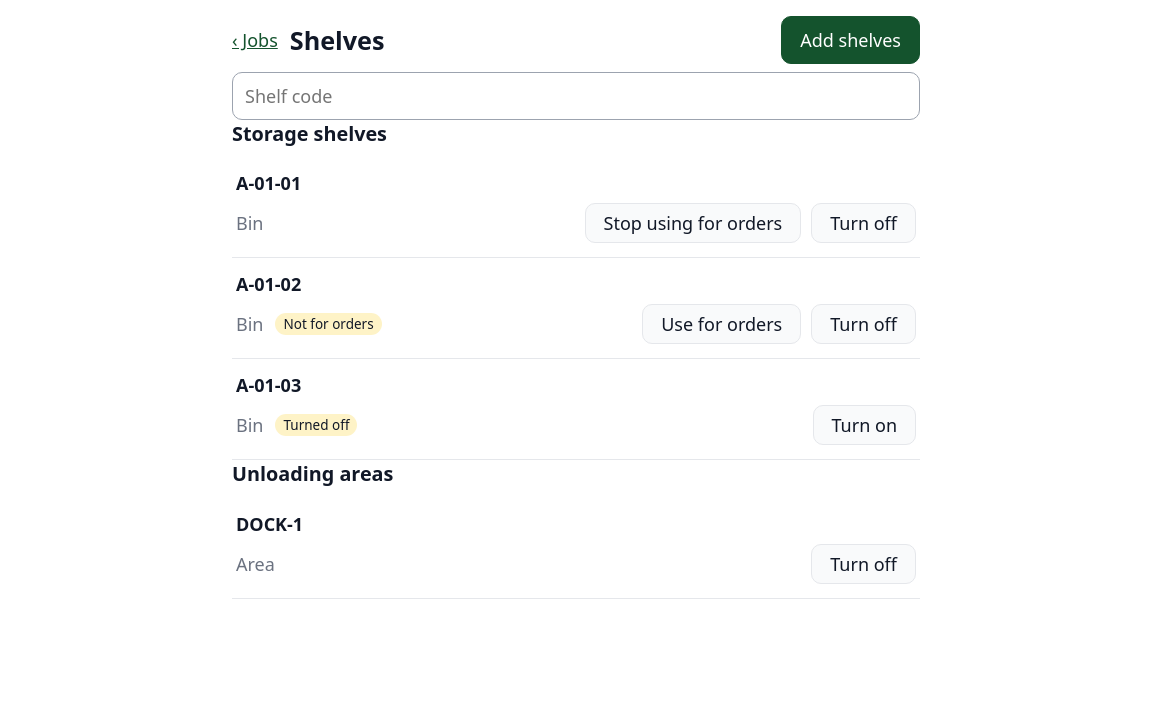
Test: shelves screen › adds a numbered run of shelves one at a time and reports any that already exist
The image size is (1152, 720).
Expected: the text "A-01-01" is shown, [236,171,301,195]
Step 1. Click the button "Add shelves" → (851, 40), box [781,16,920,64]
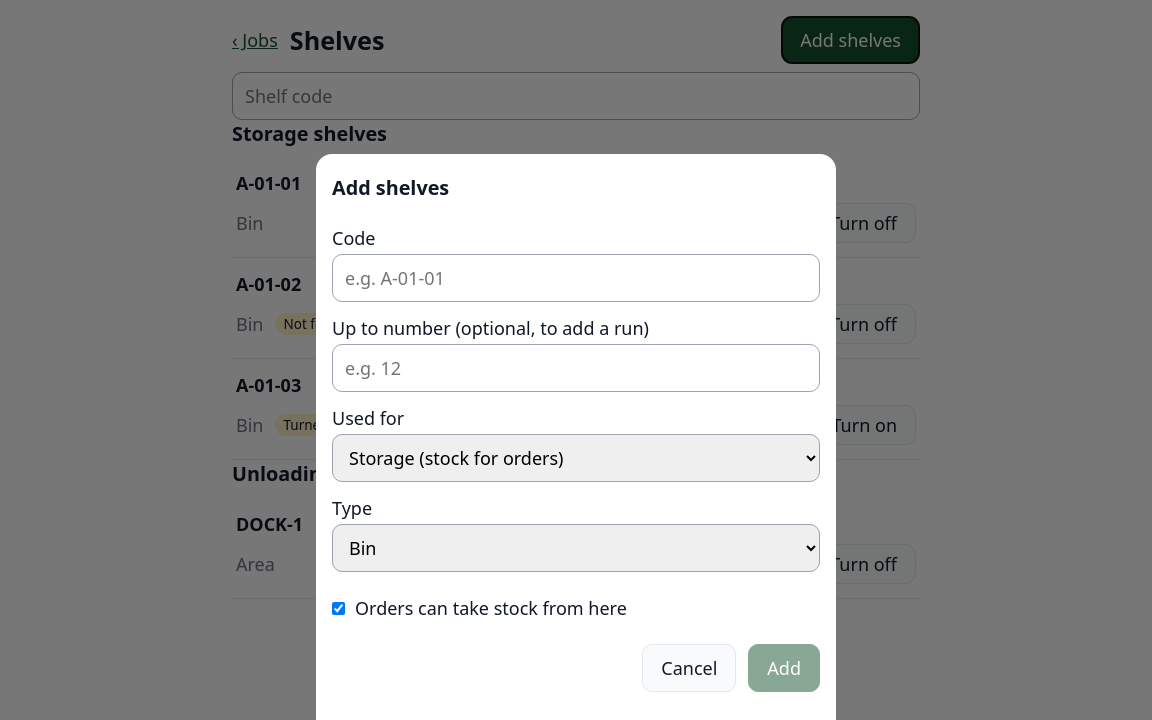
Step 2. Type "B-01" into the field labelled "Code" → (576, 278), box [332,254,820,302]
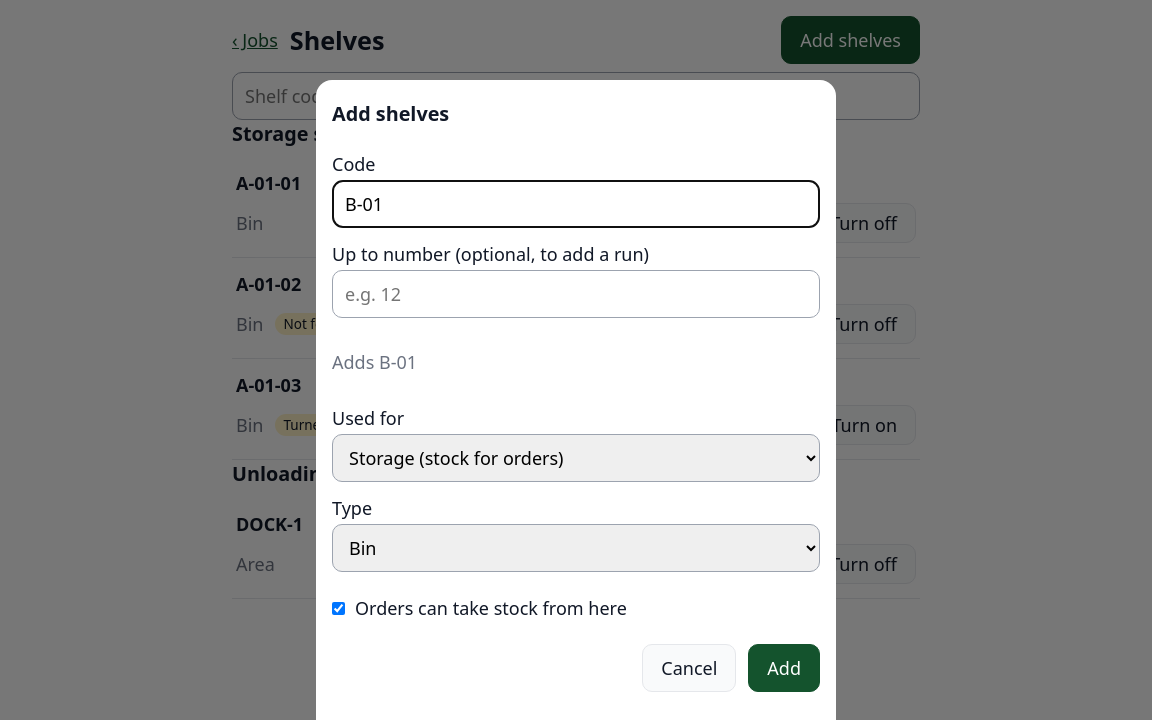
Step 3. Type "3" into the field labelled "Up to number (optional, to add a run)" → (576, 294), box [332,270,820,318]
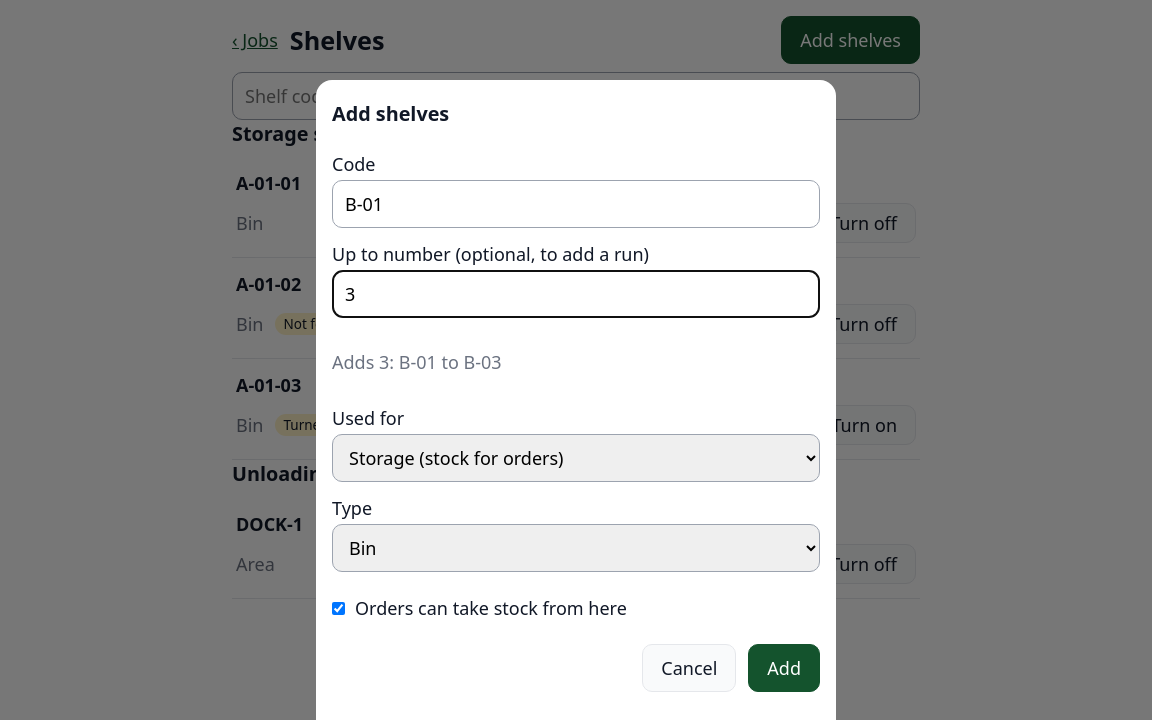
Expected: the dialog "Add shelves" shows "Adds 3: B-01 to B-03", [332,350,502,374]
Step 4. Click the checkbox labelled "Orders can take stock from here" → (338, 608), box [332,602,345,614]
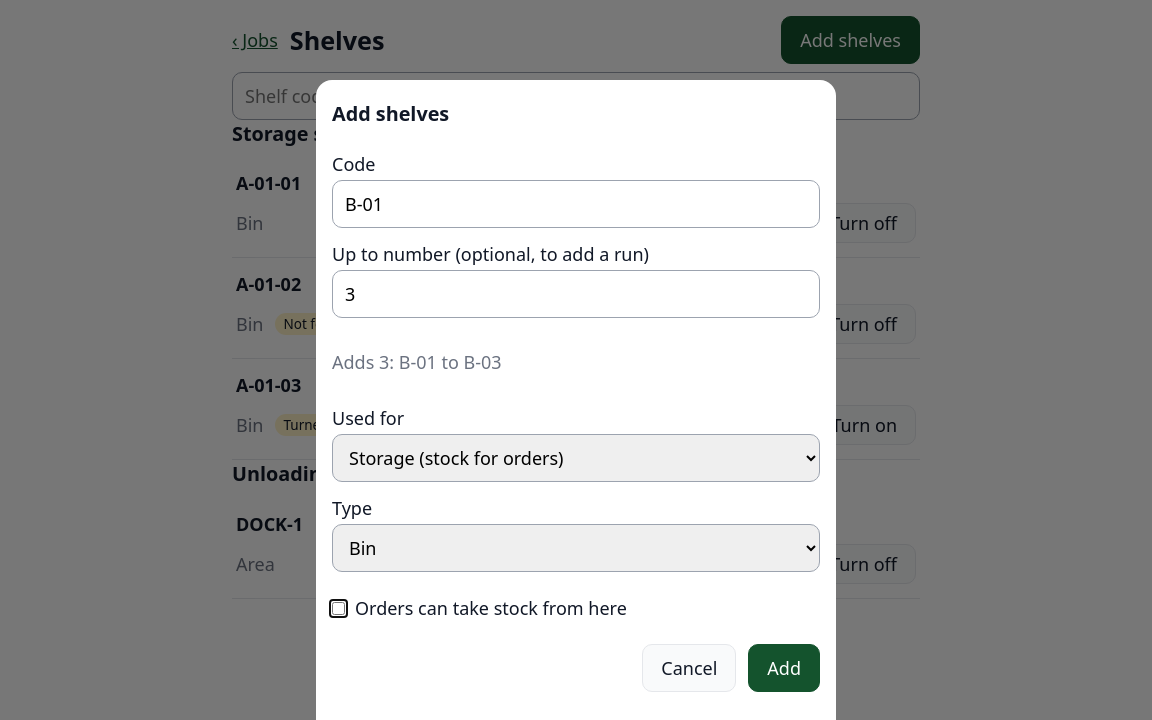
Step 5. Click the button "Add" → (784, 668), box [748,644,820,692]
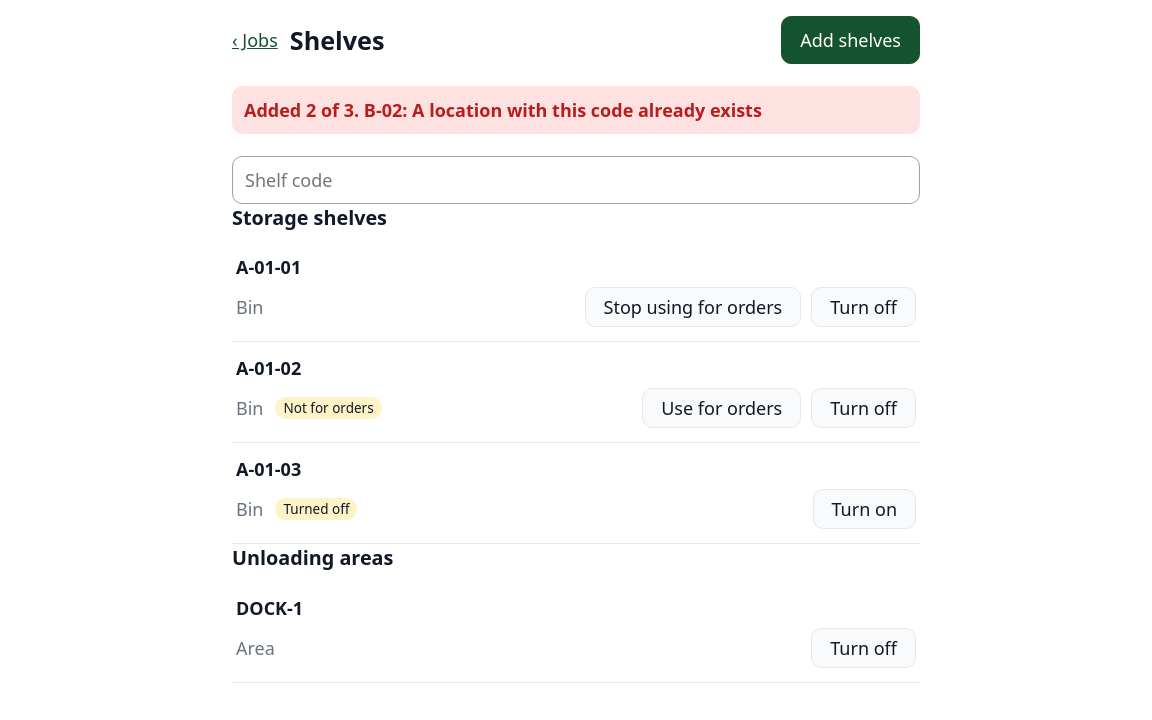
Expected: the message reads "Added 2 of 3. B-02: A location with this code already exists", [244,98,762,122]
